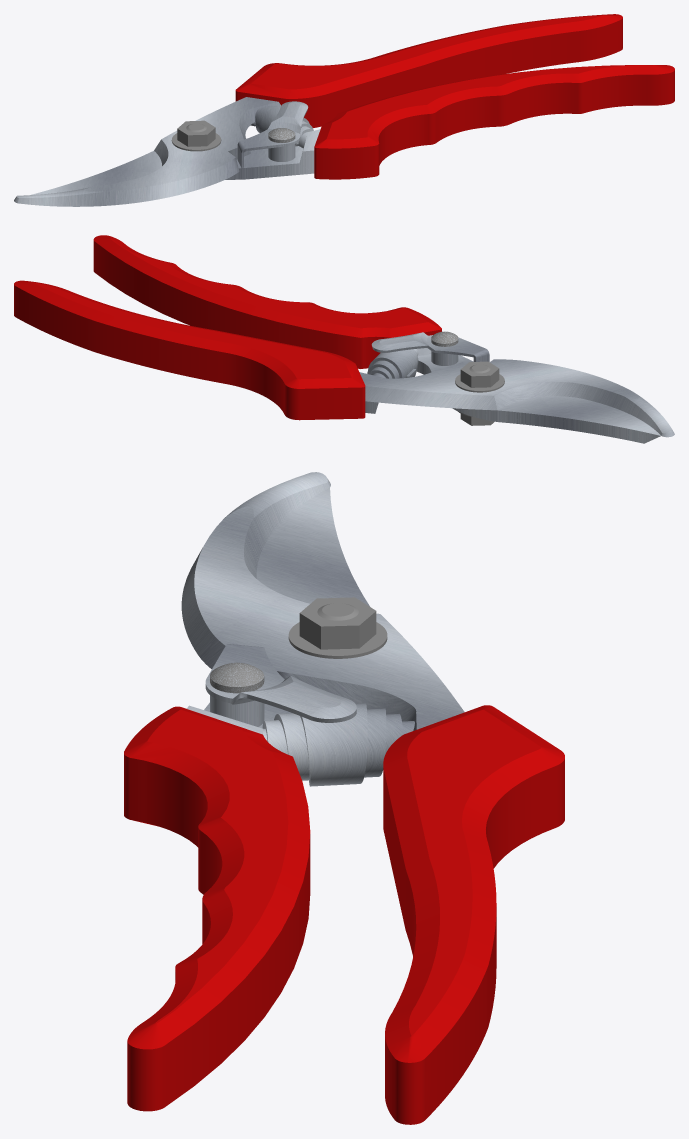
File: shears_01_origin.dae
The picture shows the model from 3 angles, top to bottom: view 1: azimuth 30°, elevation 25°; view 2: azimuth 150°, elevation 25°; view 3: azimuth 270°, elevation 25°; orthographic projection. The views are drawn at different scales.
Parts seen in each view (by area): view 1: group_1, group_0, Difference1 (×4), group_2, group_8, group_3, group_6; view 2: group_0, Difference1 (×4), group_1, group_2, group_8, group_6, group_3; view 3: group_1, group_0, Difference1 (×4), group_8, group_2, group_6, group_3.
Boxes of the visible parts, x1,y1,x2,y2 form: group_1: (314, 65, 674, 179); group_0: (235, 14, 622, 127); Difference1 (×4): (14, 97, 320, 206); group_2: (237, 101, 308, 167); group_8: (255, 106, 313, 144); group_3: (268, 144, 295, 161); group_6: (268, 128, 295, 142); group_0: (14, 280, 365, 420); Difference1 (×4): (359, 335, 674, 443); group_1: (93, 235, 441, 368); group_2: (371, 332, 489, 361); group_8: (367, 349, 418, 378); group_6: (431, 331, 458, 346); group_3: (431, 351, 458, 365); group_1: (124, 706, 310, 1111); group_0: (383, 705, 564, 1124); Difference1 (×4): (181, 472, 464, 734); group_8: (262, 703, 403, 786); group_2: (205, 644, 356, 722); group_6: (210, 662, 264, 693); group_3: (210, 695, 264, 726).
Bounding box in the file's own units: 13.47 × 4.09 × 1.05.
5 materials, 2 textured.
